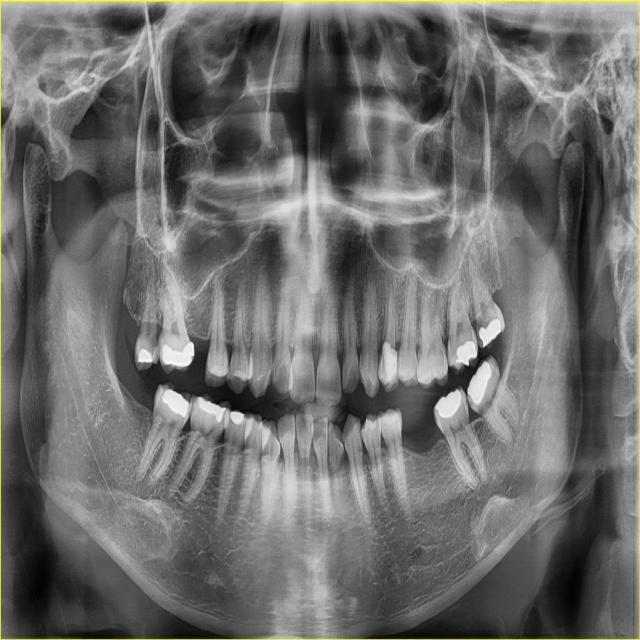Caries: (475, 316, 486, 346), (148, 331, 158, 353)
Filling: (376, 342, 398, 391), (467, 360, 491, 404), (161, 341, 195, 368), (161, 389, 189, 417), (435, 390, 461, 418), (479, 317, 502, 348), (198, 397, 226, 422), (455, 340, 477, 366), (137, 348, 152, 364), (230, 410, 244, 425)
Missing teeth: (398, 405, 439, 451), (190, 335, 211, 363)
Root Canal Treatment: (387, 296, 392, 340)
